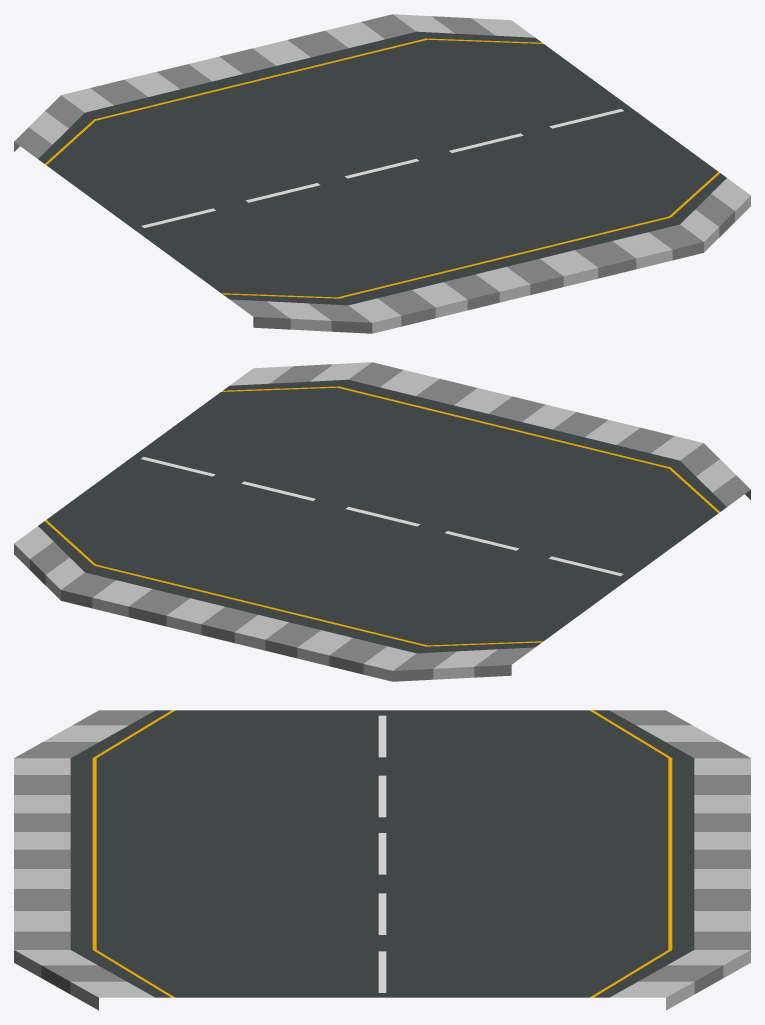
The model's file is SM_Road_07.FBX.
3 renders of one model, top to bottom at view 1: azimuth 30°, elevation 25°; view 2: azimuth 150°, elevation 25°; view 3: azimuth 270°, elevation 25°, orthographic. The views are drawn at different scales.
Visible parts, largest first — view 1: SM_Road_07; view 2: SM_Road_07; view 3: SM_Road_07.
Boxes of the visible parts, x1,y1,x2,y2 form: SM_Road_07: [14, 14, 750, 333]; SM_Road_07: [14, 362, 750, 681]; SM_Road_07: [14, 710, 750, 1010].
Size of what is drawn, in the model's own units: 1200 by 1300 by 25.
